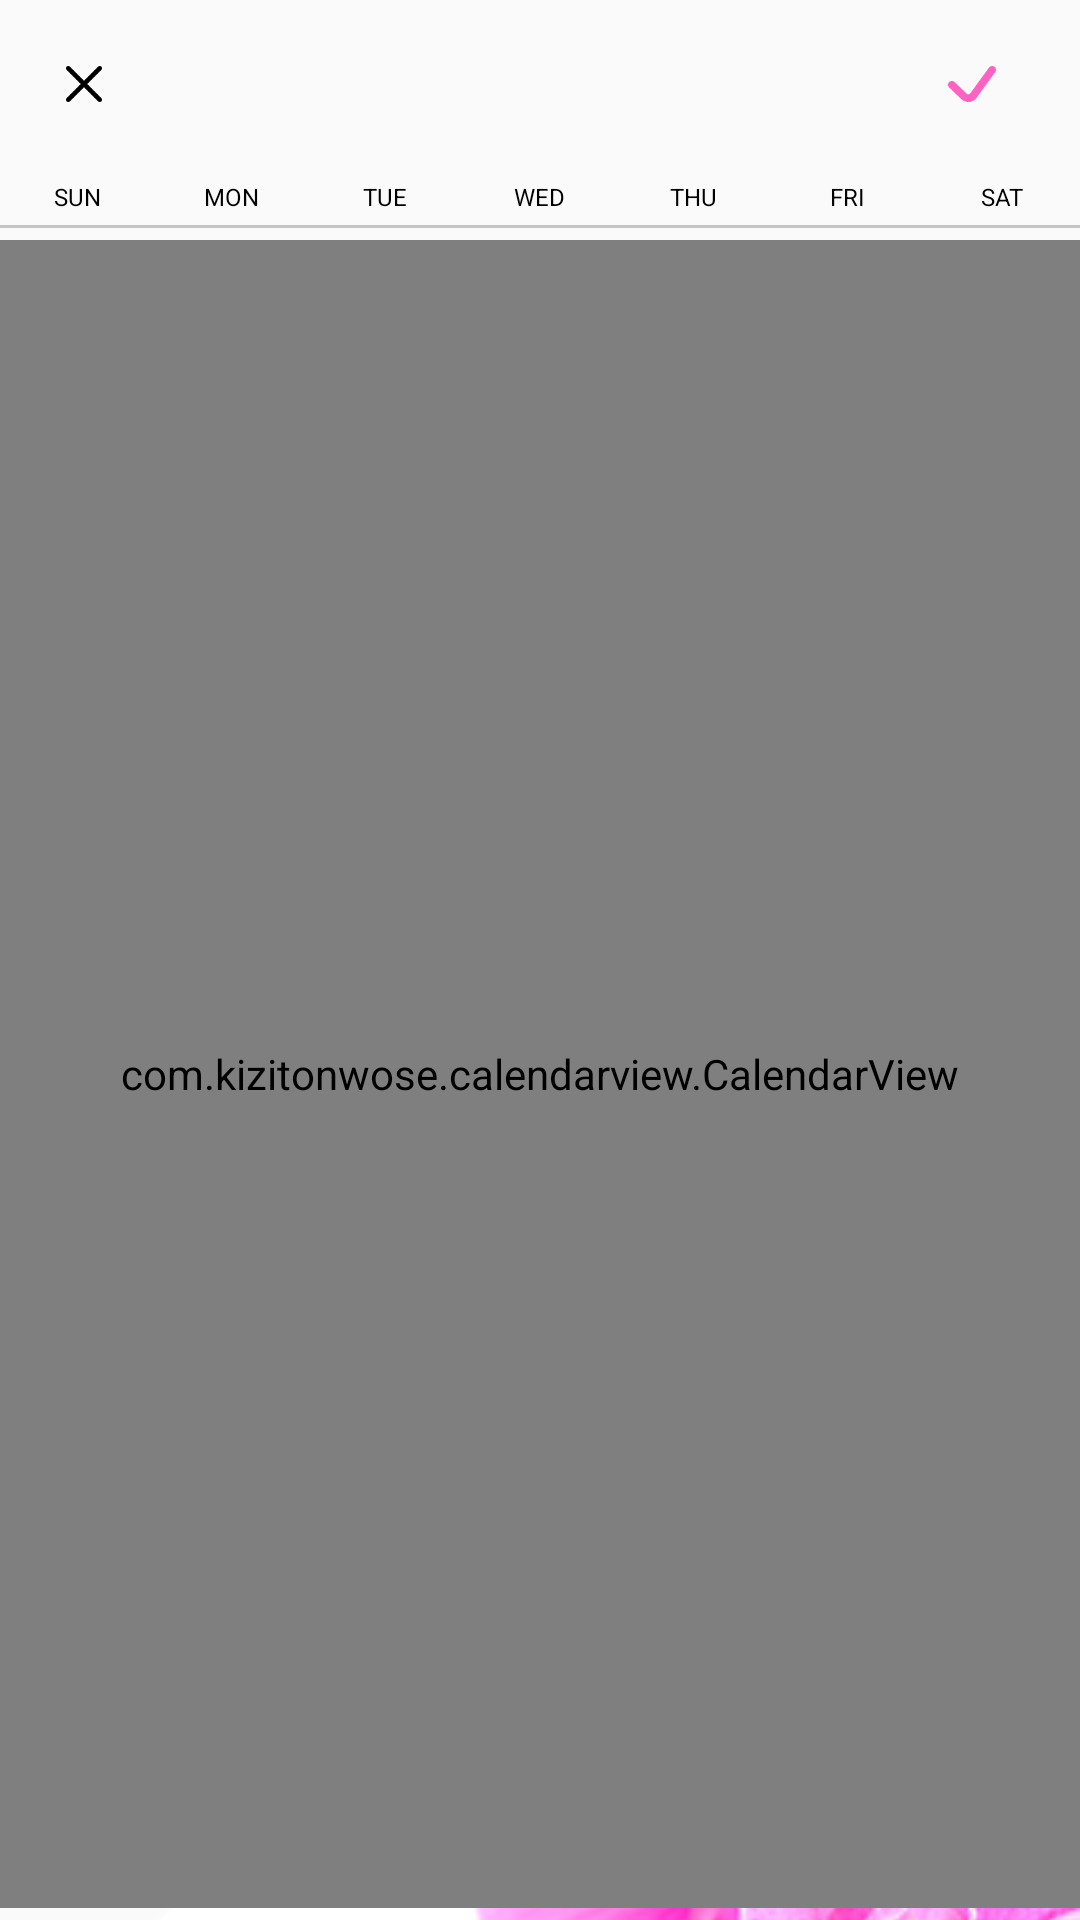

Locate icon controls on the screen. Image size 1080×1920, boxes as (x1, y1, x2, y2).
cancel: (66, 66, 102, 102)
